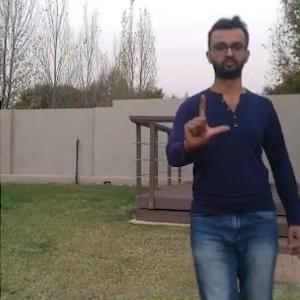land_hand: (173, 89, 228, 154)
